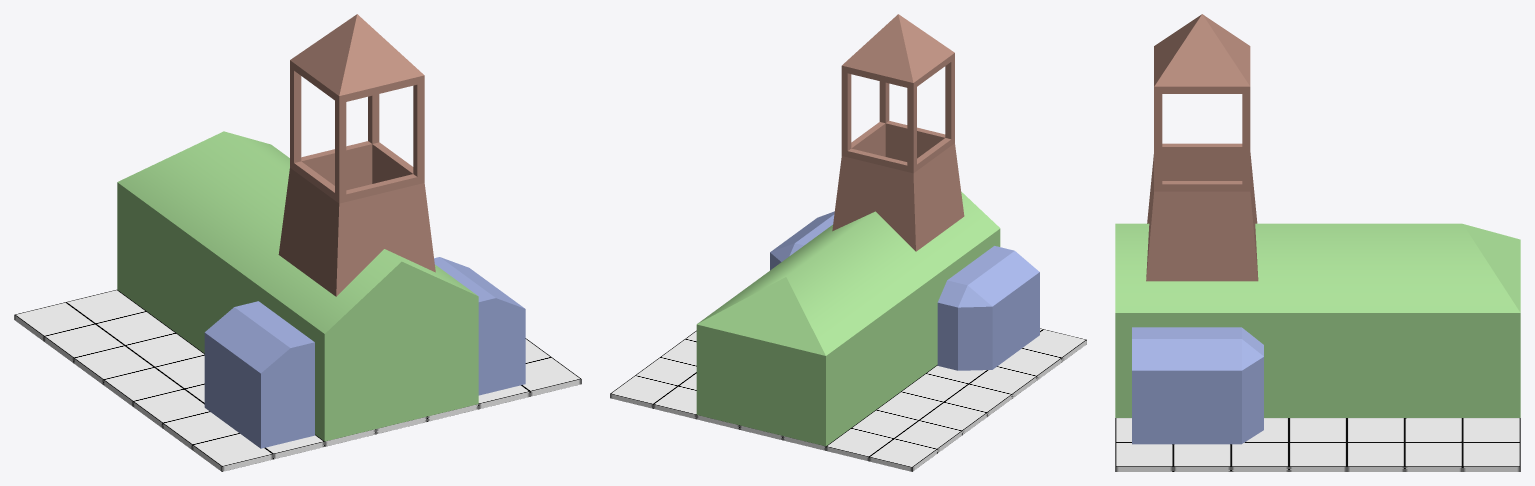
File: XG_Church.glb
3 views of the same model, side by side, from view 1: azimuth 30°, elevation 25°; view 2: azimuth 150°, elevation 25°; view 3: azimuth 270°, elevation 25° (orthographic). The views are drawn at different scales.
Parts seen in each view (by area): view 1: building_7m_3m_030, Box644, ground_7_x_7_009, building_7m_3m_032, building_7m_3m_031; view 2: building_7m_3m_030, Box644, ground_7_x_7_009, building_7m_3m_032, building_7m_3m_031; view 3: building_7m_3m_030, Box644, ground_7_x_7_009, building_7m_3m_031.
Part boxes in pixels (x1,y1,x2,y2): building_7m_3m_030: [117, 131, 478, 441]; Box644: [278, 14, 435, 296]; ground_7_x_7_009: [14, 289, 581, 471]; building_7m_3m_032: [204, 301, 314, 448]; building_7m_3m_031: [434, 257, 525, 395]; building_7m_3m_030: [696, 192, 1000, 446]; Box644: [832, 14, 964, 251]; ground_7_x_7_009: [610, 328, 1086, 471]; building_7m_3m_032: [937, 246, 1039, 370]; building_7m_3m_031: [770, 211, 834, 270]; building_7m_3m_030: [1115, 223, 1520, 417]; Box644: [1146, 14, 1258, 281]; ground_7_x_7_009: [1115, 418, 1520, 471]; building_7m_3m_031: [1132, 327, 1263, 444].
Bounding box in the file's own units: 7 × 7.1 × 7.
Materials: 4 (1 with a texture image).
